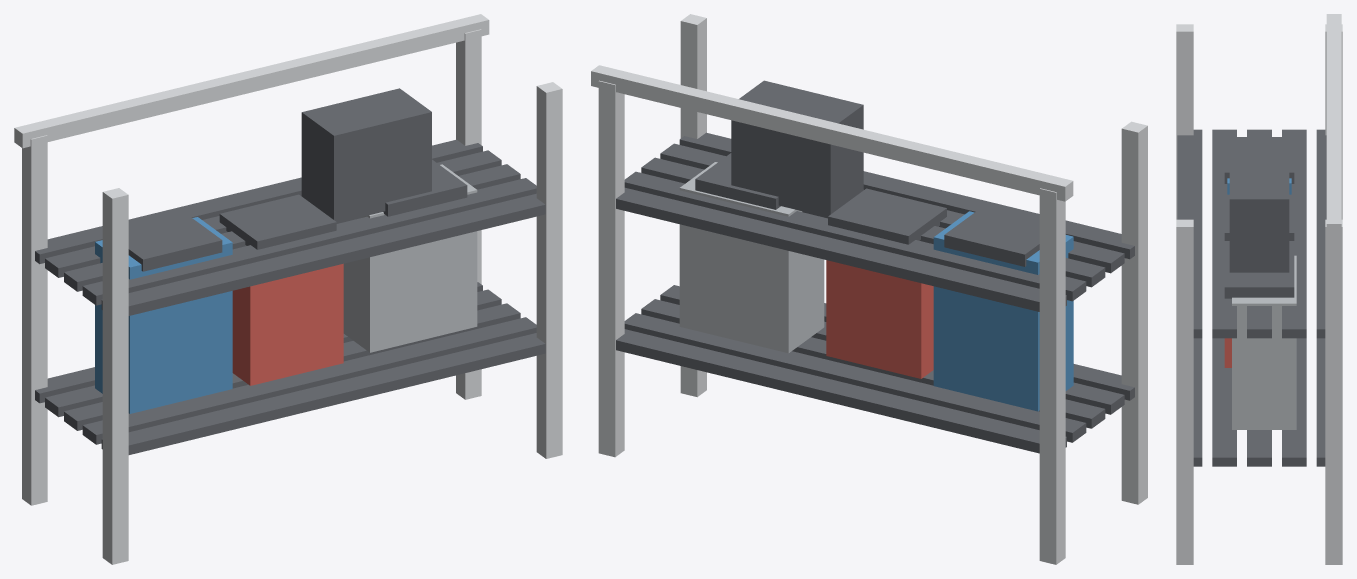
The model's file is ferry-terminal-and-harbour-crossing-ferry-terminal-and-14f419ff__35657.glb.
3 renders of one model, left to right at view 1: azimuth 30°, elevation 25°; view 2: azimuth 150°, elevation 25°; view 3: azimuth 270°, elevation 25°, orthographic. The views are drawn at different scales.
Parts seen in each view (by area): view 1: ferry-terminal-and-harbour-crossing-luggage-rack; view 2: ferry-terminal-and-harbour-crossing-luggage-rack; view 3: ferry-terminal-and-harbour-crossing-luggage-rack.
Boxes of the visible parts, x1,y1,x2,y2 form: ferry-terminal-and-harbour-crossing-luggage-rack: (14, 14, 562, 564); ferry-terminal-and-harbour-crossing-luggage-rack: (591, 14, 1147, 564); ferry-terminal-and-harbour-crossing-luggage-rack: (1176, 14, 1342, 564).
Size of the model in its own units: 2 by 1.53 by 0.67.
